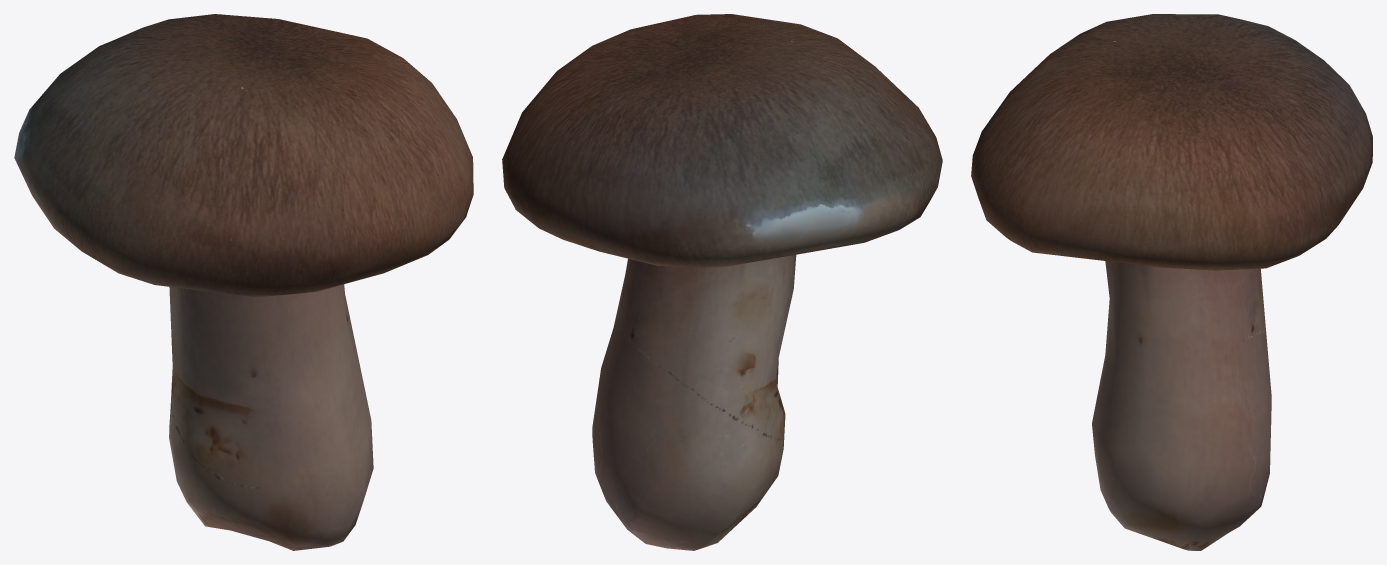
The model's file is BrownVegetableMushroom01.fbx.
The picture shows the model from 3 angles, left to right: view 1: azimuth 30°, elevation 25°; view 2: azimuth 150°, elevation 25°; view 3: azimuth 270°, elevation 25°; orthographic projection. The views are drawn at different scales.
Visible parts, largest first — view 1: Mushroom01; view 2: Mushroom01; view 3: Mushroom01.
Part boxes in pixels (x1,y1,x2,y2): Mushroom01: (14,14,473,550); Mushroom01: (502,14,942,550); Mushroom01: (971,14,1372,550).
Bounding box in the file's own units: 0.0973 × 0.0954 × 0.1238.
1 material, 1 textured.
